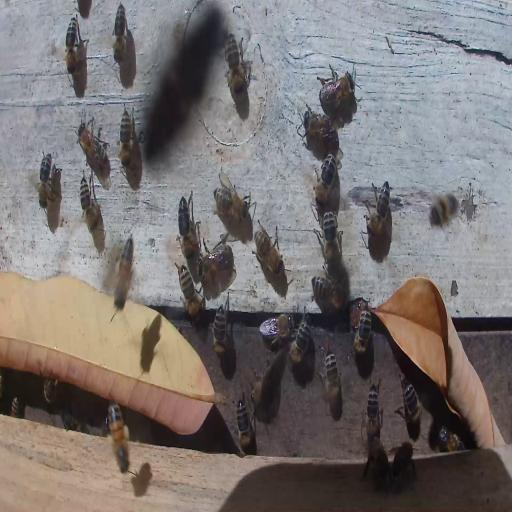bee: (113, 231, 138, 313), (316, 66, 356, 115), (212, 172, 248, 224), (253, 219, 284, 277), (107, 400, 130, 476), (288, 304, 314, 371), (249, 353, 279, 411), (75, 119, 108, 170), (223, 34, 248, 99), (364, 179, 392, 236), (318, 347, 343, 410), (176, 263, 204, 319), (316, 208, 343, 265), (314, 152, 340, 210), (399, 380, 423, 439), (178, 190, 198, 259), (79, 171, 101, 233), (388, 439, 416, 487), (211, 298, 231, 364), (38, 150, 58, 212), (234, 395, 254, 456), (200, 244, 232, 282), (367, 438, 389, 492), (259, 315, 293, 348), (300, 110, 334, 142), (430, 192, 459, 229), (364, 382, 382, 440), (353, 304, 373, 356), (119, 107, 135, 170), (65, 14, 80, 76), (312, 275, 342, 306), (112, 2, 126, 66), (436, 426, 464, 452), (44, 377, 58, 406), (62, 414, 86, 430), (9, 395, 23, 417)
